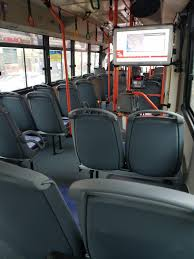seat: (3, 142, 87, 254)
